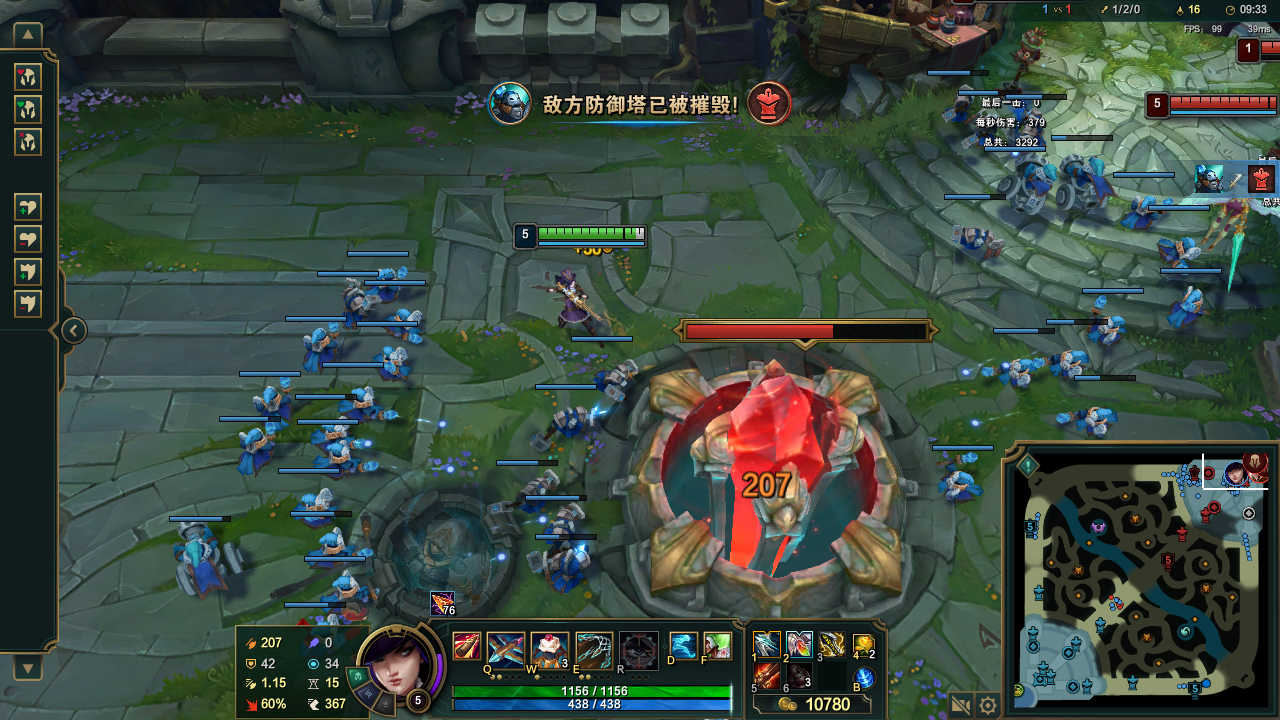DFDSJ: (638, 335, 908, 587)
DFYX: (1173, 98, 1256, 105)
